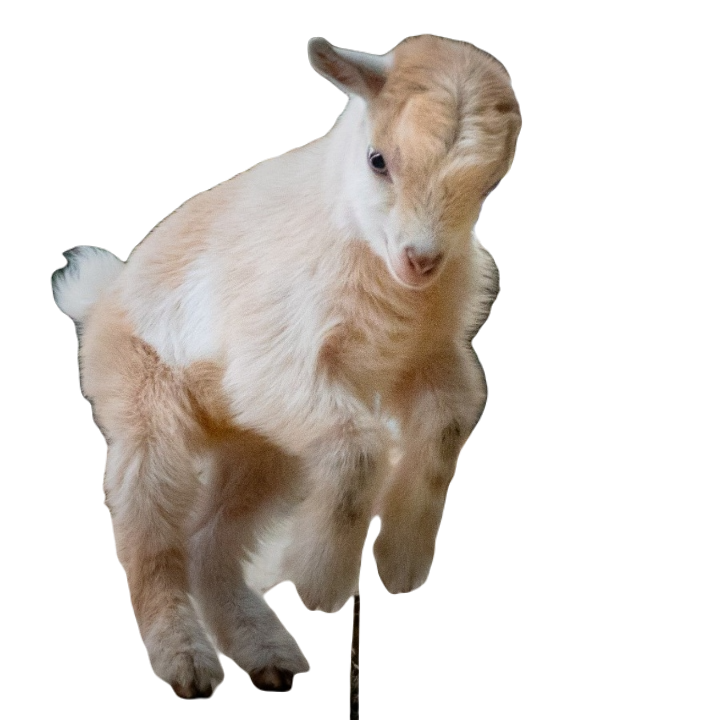Goat: (45, 28, 522, 702)
